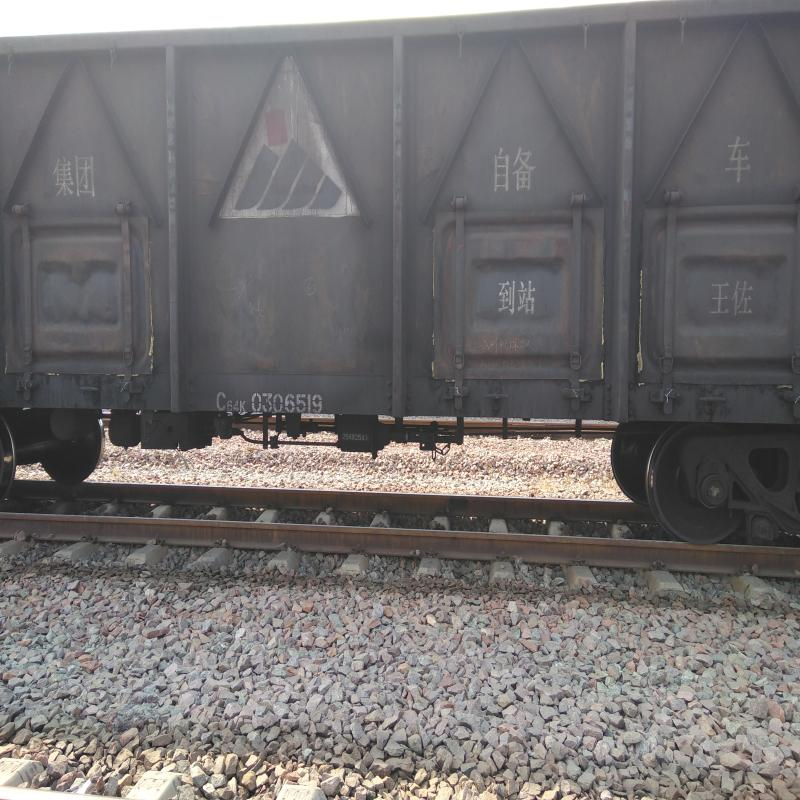train: (25, 11, 779, 406)
